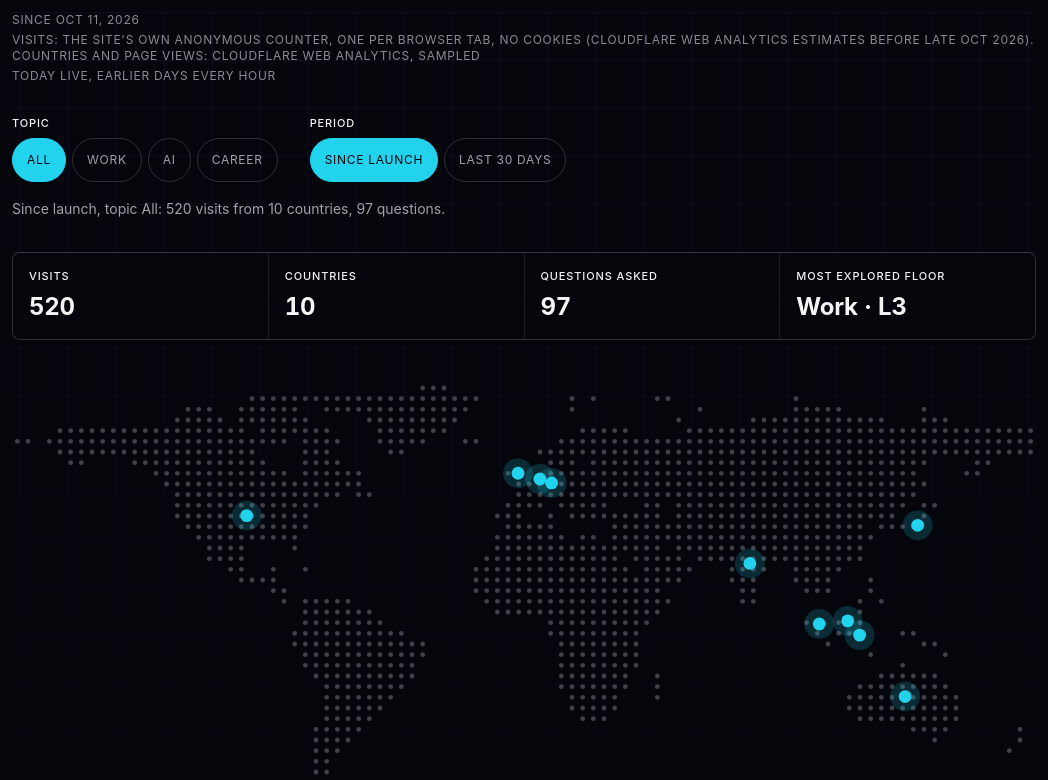
Test case: VisitsPanel › filters with two native radio groups and announces the result
The width and height of the screenshot is (1048, 780).
Check: the message reads "Since launch, topic All: 520 visits from 10 countries, 97 questions.", box left=12, top=200, right=445, bottom=217
Click the radio button labelled "All".
click(39, 160)  # box left=12, top=138, right=66, bottom=182
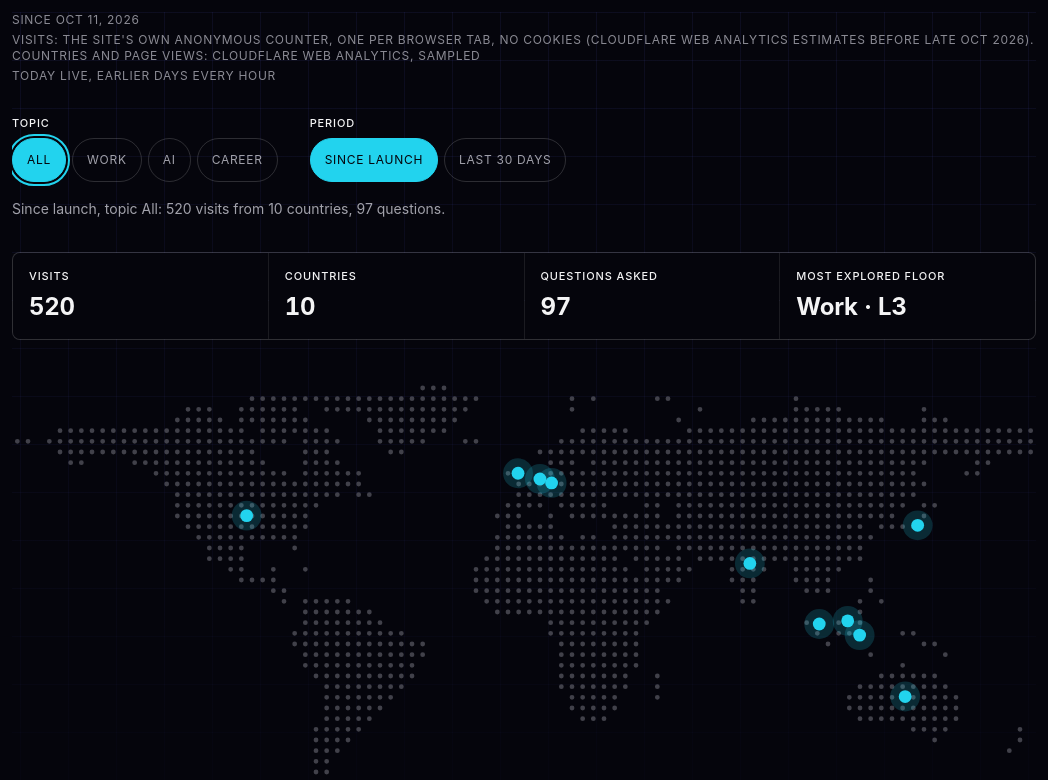
Press Arrowright
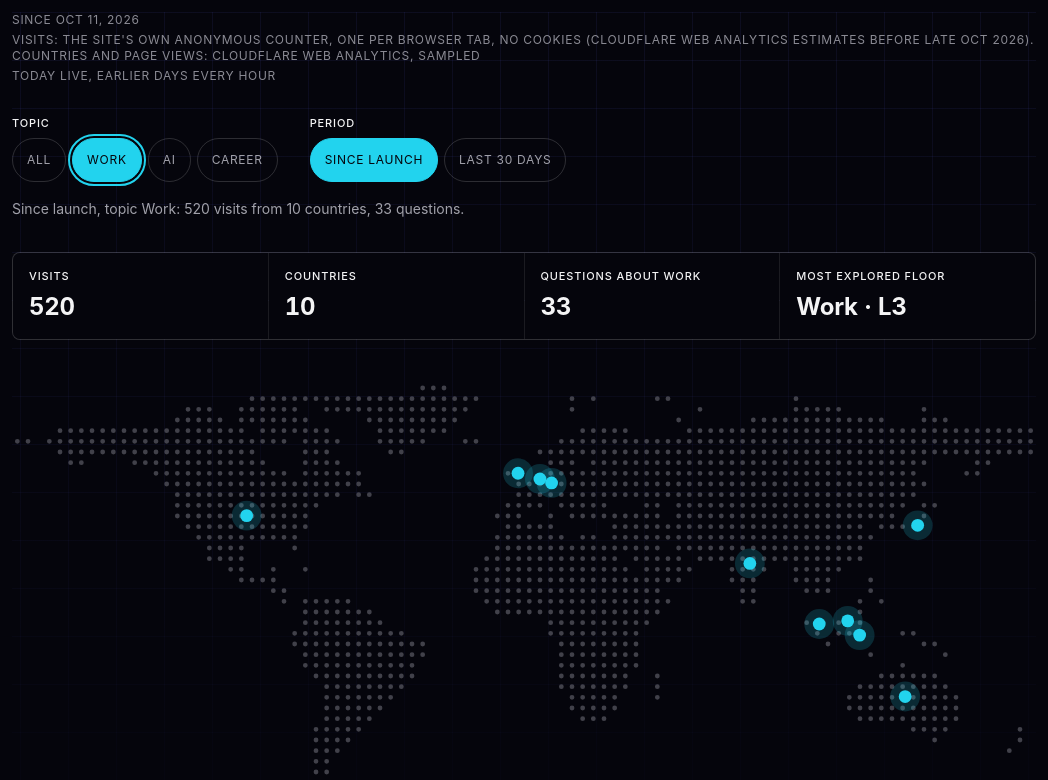
Check: the radio button labelled "Work" is checked, box left=72, top=138, right=142, bottom=182
Check: the message reads "Since launch, topic Work: 520 visits from 10 countries, 33 questions.", box left=12, top=200, right=464, bottom=217
Click the radio button labelled "Last 30 days".
click(505, 160)  # box left=444, top=138, right=566, bottom=182
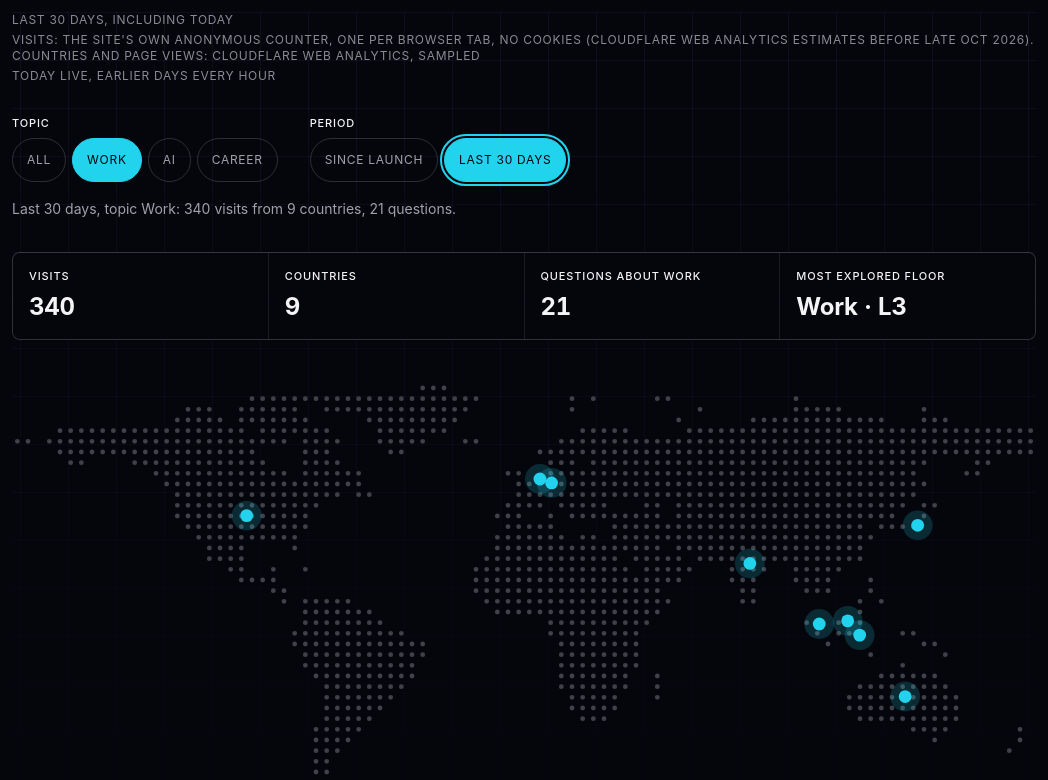
Check: the element with test id "visits-scope" shows "Last 30 days, including today", box left=12, top=12, right=234, bottom=27
Check: the message reads "Last 30 days, topic Work: 340 visits from 9 countries, 21 questions.", box left=12, top=200, right=456, bottom=217
